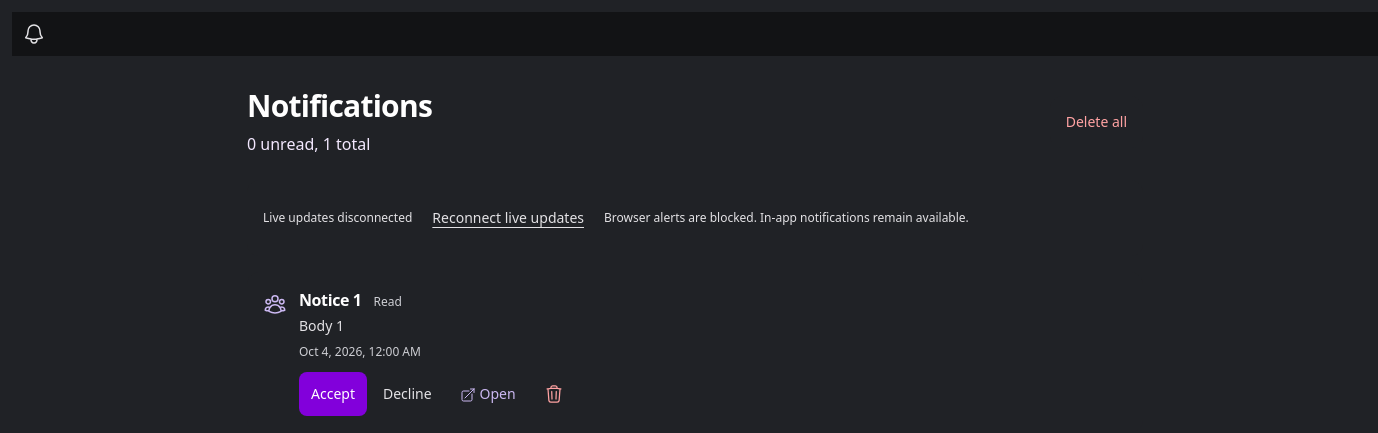
Test: canonical notification synchronization › keeps Read pending friend requests actionable and uses the parent command only
Check: the button "Decline" is shown, box [371, 372, 444, 416]
Step 1. Click the button "Accept" → (333,394), box [299, 372, 367, 416]
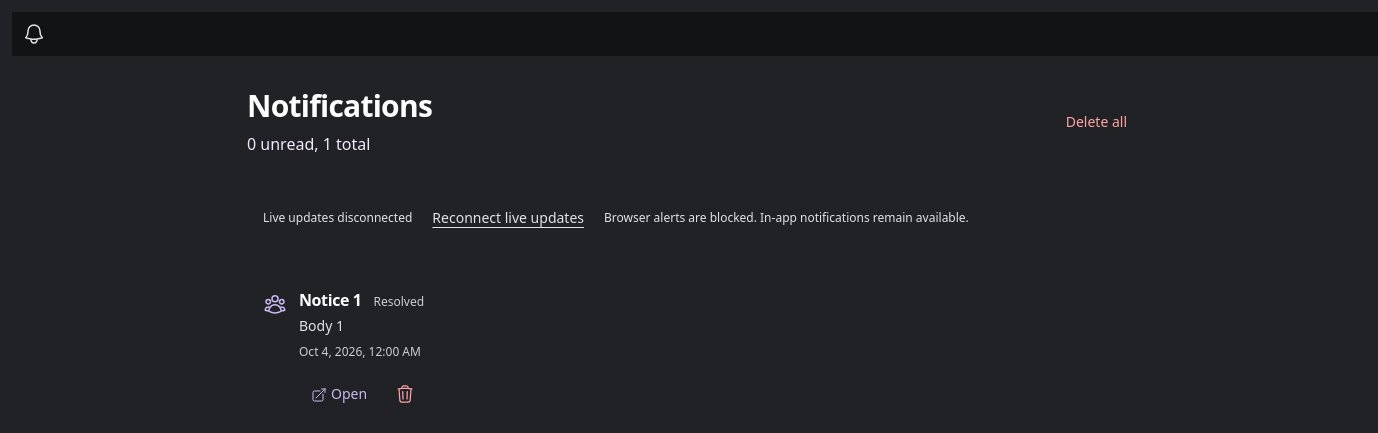
Check: the button "Accept" is gone
Check: the text "Resolved" is shown, box [374, 294, 424, 310]
